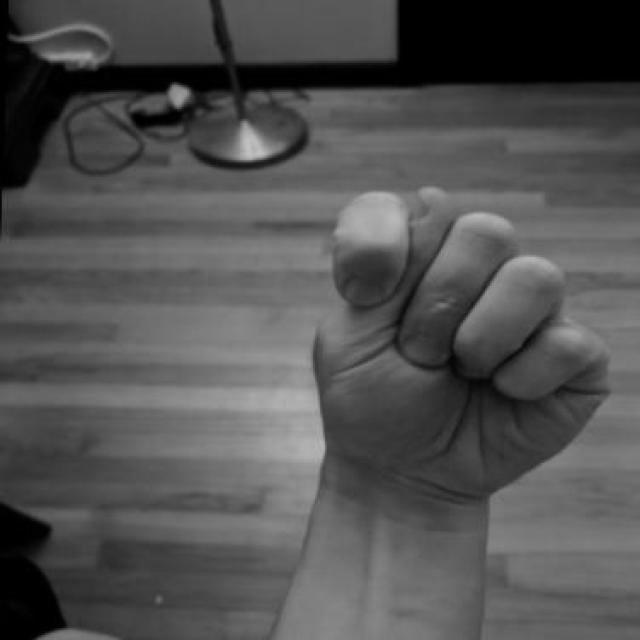T: (299, 180, 624, 513)
